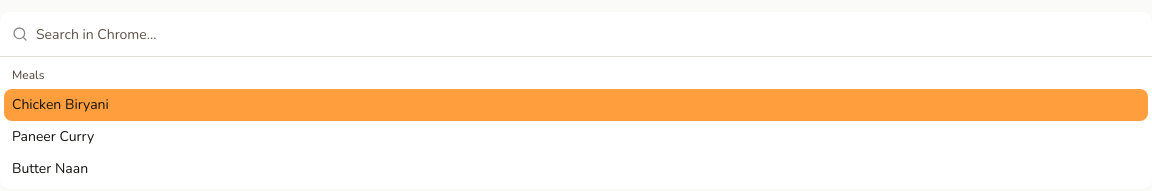
Scenario: Cross-Browser Compatibility Tests › Chrome Browser Compatibility › renders Command component with full Chrome features
Type "curry" into the dropdown with placeholder "Search in Chrome..." at coordinates (588, 34), box [36, 12, 1140, 56]
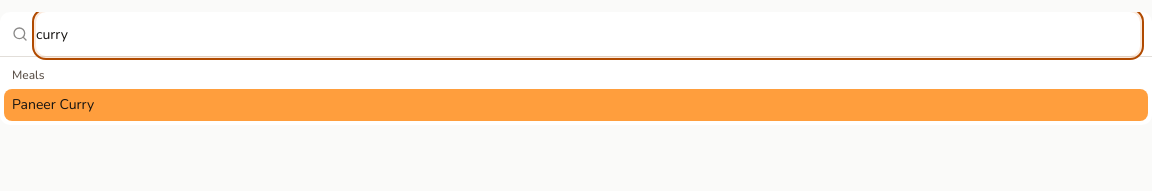
Expected: the option "Paneer Curry" is shown, [4, 89, 1148, 121]
Expected: the option "Chicken Biryani" is gone
